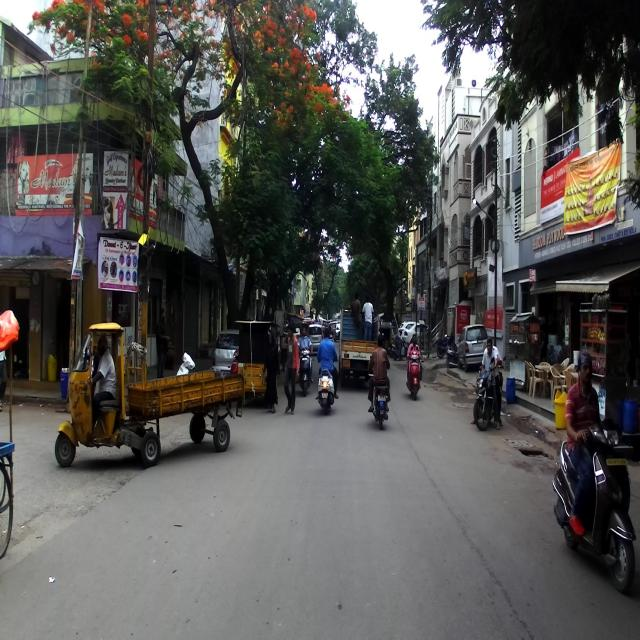autorickshaw: (231, 321, 280, 406)
motorcycle: (472, 355, 501, 431)
scooter: (551, 418, 636, 594), (316, 361, 336, 412)
truck: (52, 321, 246, 470)
